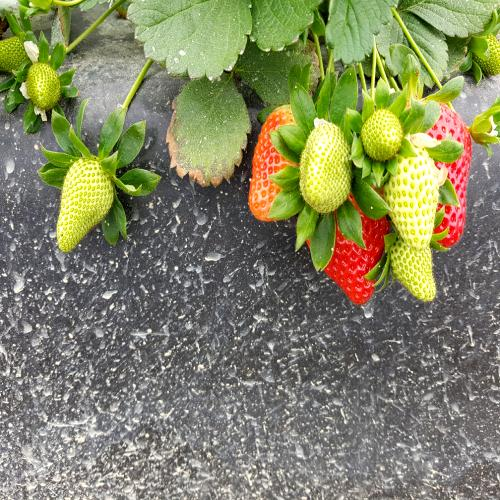ripe: (248, 91, 310, 236), (317, 204, 394, 314)
